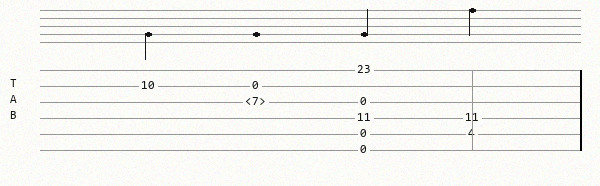0: (252, 80, 263, 92), (360, 144, 371, 156), (360, 96, 371, 108), (360, 128, 371, 140)
10: (141, 80, 159, 92)
11: (357, 112, 375, 124), (465, 112, 483, 124)
23: (357, 64, 375, 76)
4: (468, 128, 479, 140)
harmonic: (245, 96, 270, 108)
